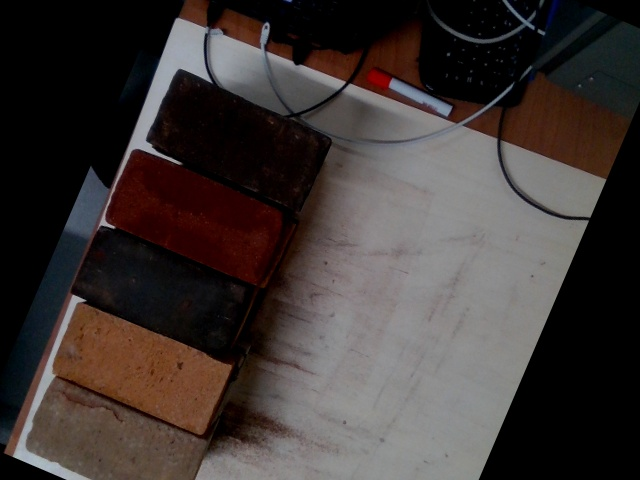brick: (146, 69, 328, 208), (104, 147, 281, 282), (71, 223, 248, 358), (52, 301, 229, 435), (25, 378, 202, 479)
